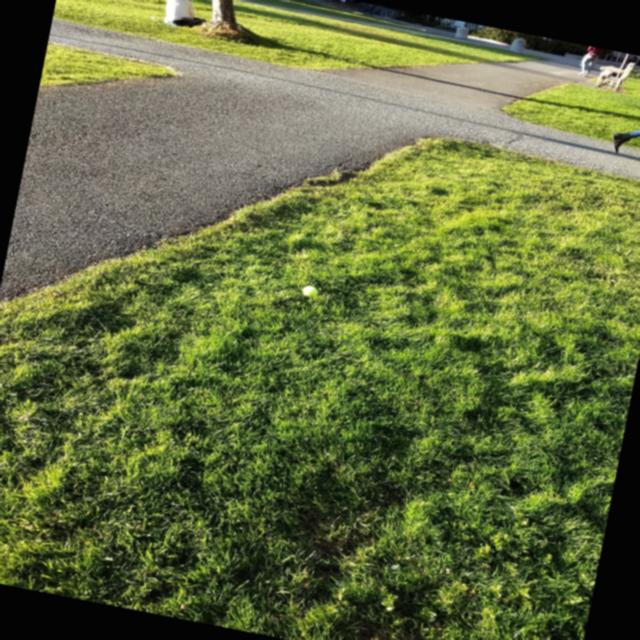tennis-ball: (302, 285, 321, 299)
